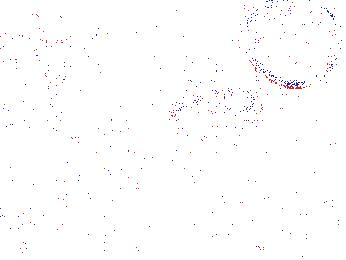moon jellyfish: (240, 1, 341, 91), (21, 1, 119, 59), (36, 1, 101, 83), (171, 85, 262, 141), (1, 1, 73, 45)
